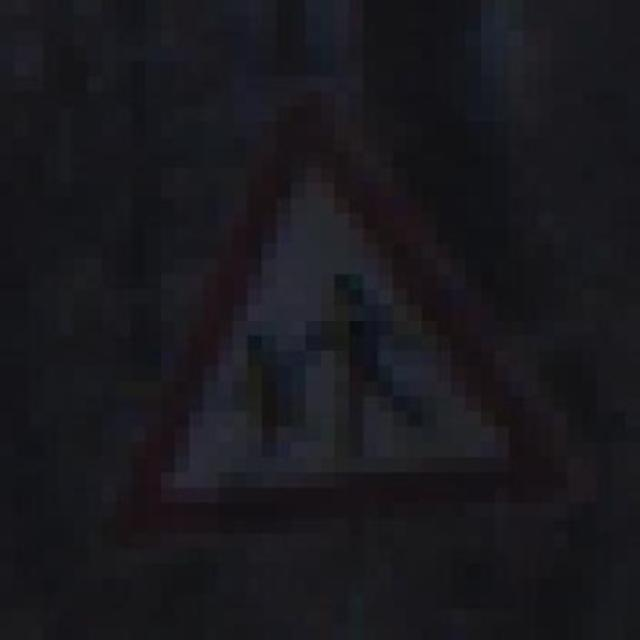Beware of children: (101, 91, 582, 548)
